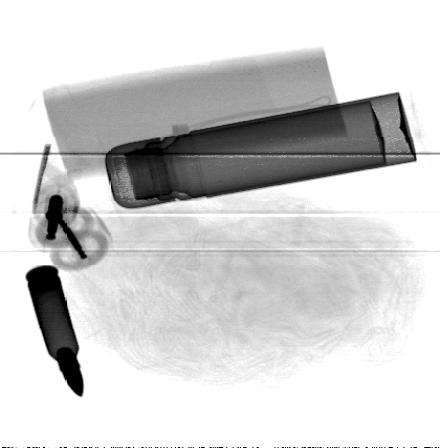Bullet: (24, 263, 85, 399)
